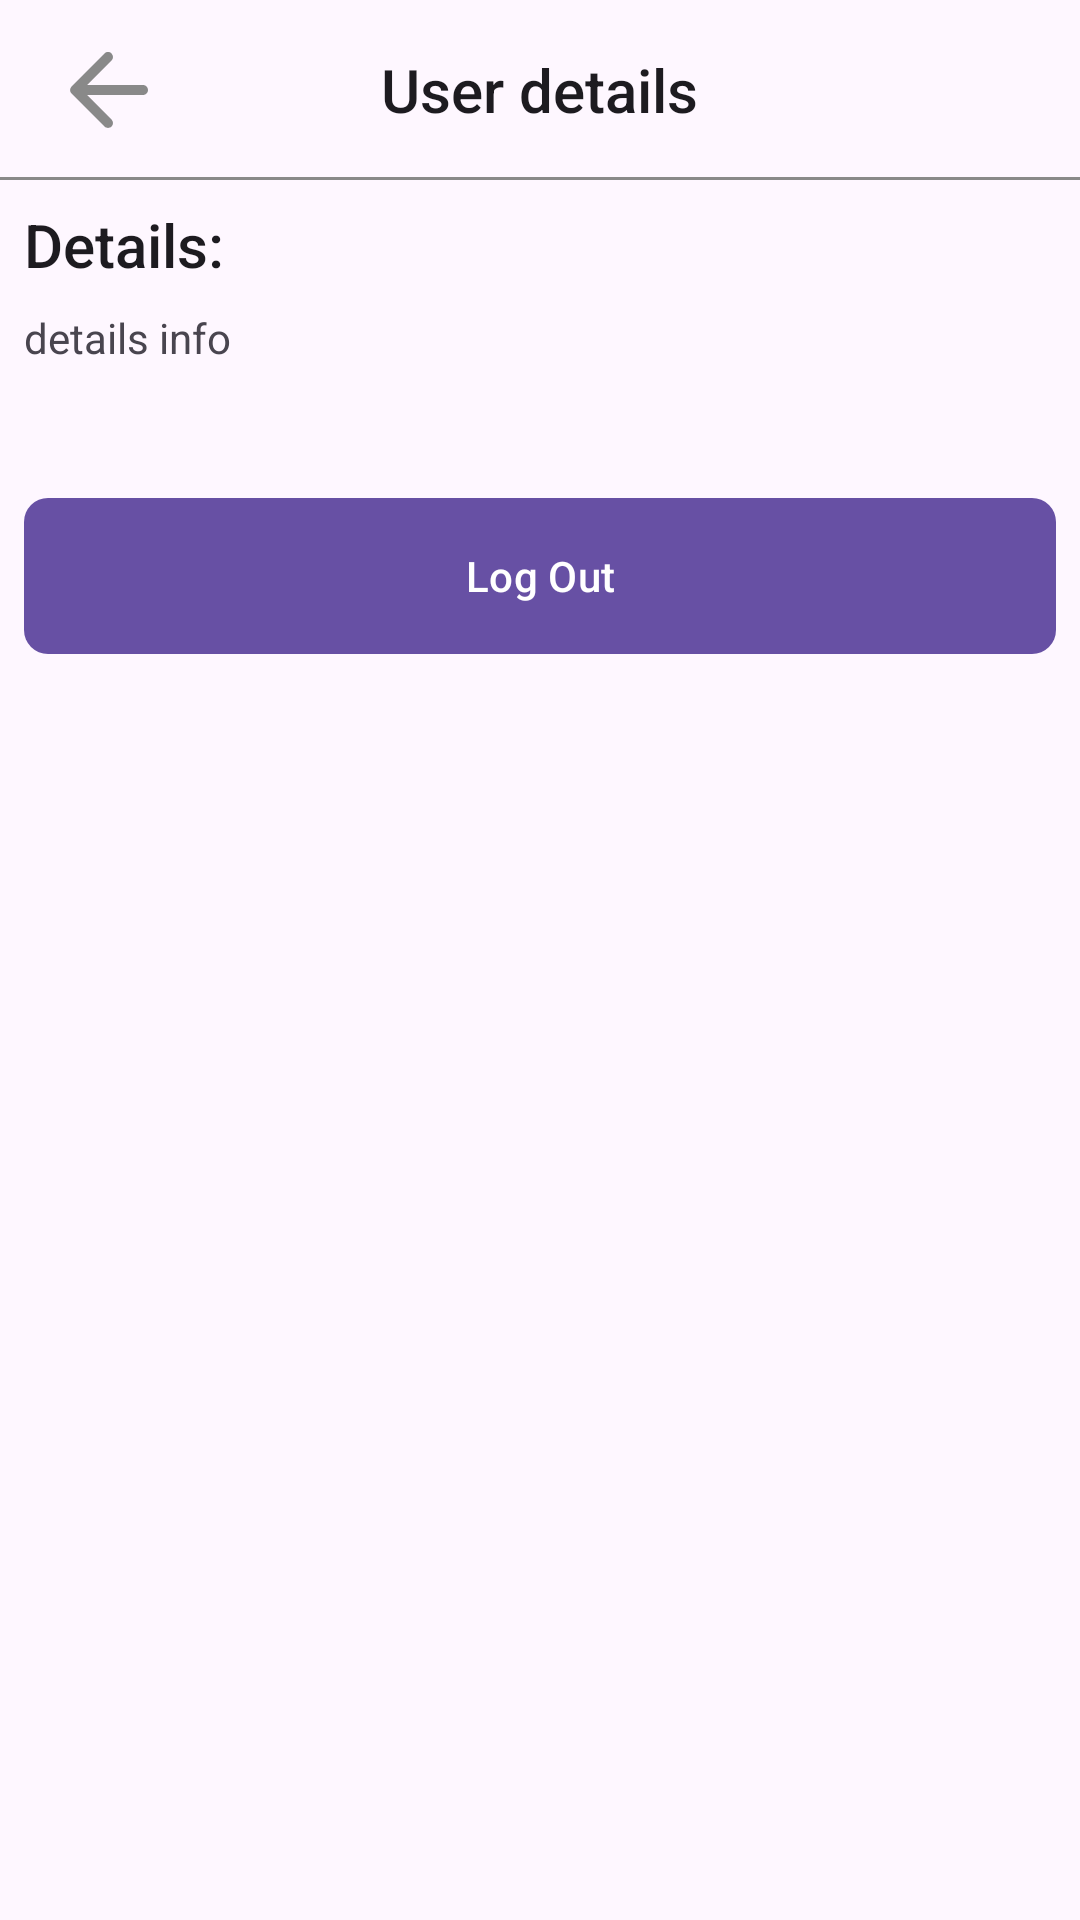

Icons on this 1080 x 1920 Android screen, each with its box as [x1=x1, y1=y1, x2=x2, y2=y2]:
back: [x1=70, y1=52, x2=148, y2=128]
